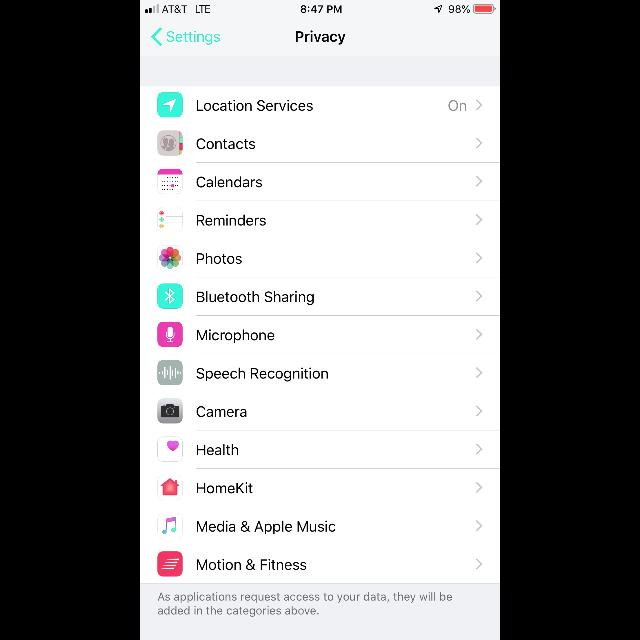icon: (158, 474, 182, 500), (158, 436, 182, 462), (158, 398, 182, 424), (158, 92, 182, 118), (158, 322, 182, 346), (158, 284, 182, 308), (152, 28, 162, 46), (476, 214, 482, 226), (476, 252, 482, 264), (476, 290, 482, 302), (476, 520, 482, 532), (476, 558, 482, 570), (476, 176, 482, 187), (476, 328, 482, 339), (476, 482, 482, 493), (476, 100, 482, 110), (476, 138, 482, 148), (476, 368, 482, 378), (476, 406, 482, 416), (476, 444, 482, 454)
image: (158, 360, 182, 386), (158, 168, 182, 194), (158, 130, 182, 156), (158, 552, 182, 576), (158, 514, 182, 538), (158, 246, 182, 270), (158, 208, 182, 232)
text: (158, 592, 452, 616), (196, 368, 328, 382), (197, 522, 335, 534), (196, 291, 314, 305), (197, 100, 313, 112), (198, 558, 306, 570), (198, 329, 274, 343), (198, 214, 266, 226), (197, 176, 263, 188), (168, 31, 220, 45), (296, 31, 346, 45), (197, 138, 255, 150), (197, 482, 253, 493), (197, 407, 247, 418), (198, 253, 242, 264), (198, 444, 238, 456), (449, 100, 467, 112)
uppertaskbar: (140, 0, 500, 14)
